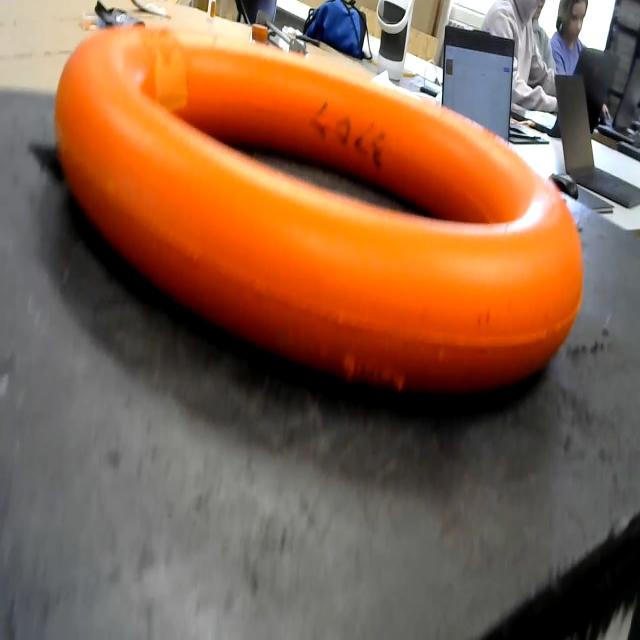note: (64, 13, 575, 422)
